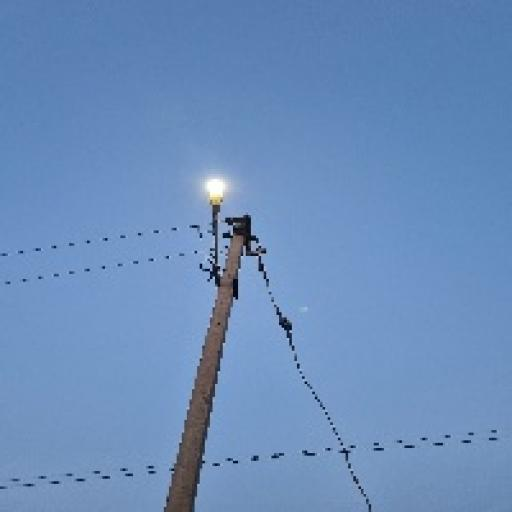Working: (194, 168, 238, 213)
